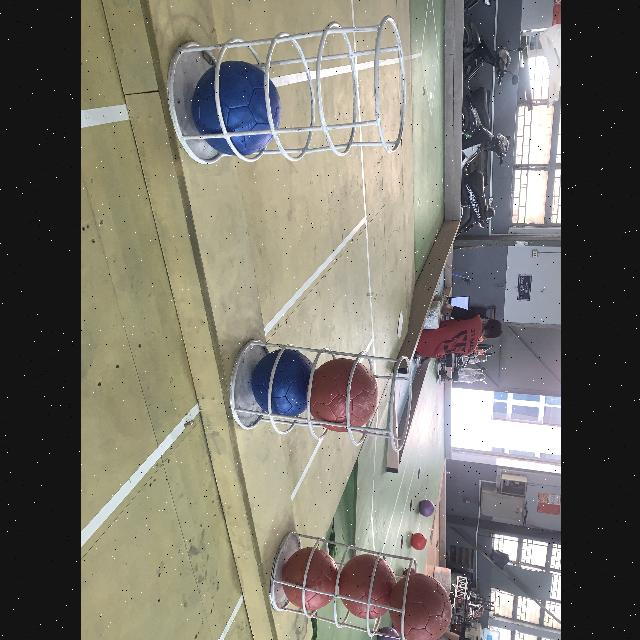B: (190, 58, 282, 156), (250, 348, 314, 418)
R: (306, 358, 376, 432), (387, 573, 453, 640), (336, 554, 396, 620), (280, 546, 336, 610)
